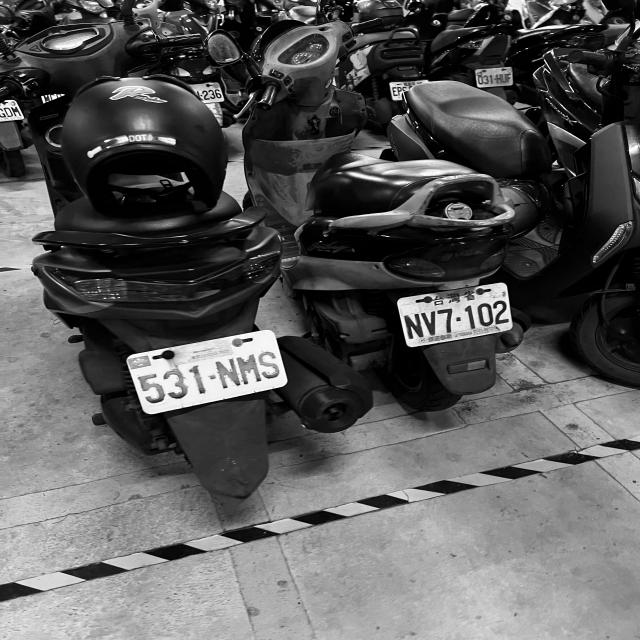-: (207, 373, 219, 382), (456, 316, 462, 322)
0: (474, 300, 494, 326)
1: (188, 363, 206, 396), (463, 304, 477, 329)
2: (493, 297, 511, 325), (202, 90, 211, 101)
3: (160, 366, 190, 403), (208, 89, 216, 100)
5: (136, 372, 169, 406)
6: (214, 88, 223, 99)
7: (436, 308, 456, 334)
E: (392, 86, 399, 97)
M: (234, 351, 263, 386)
N: (214, 355, 242, 391), (401, 311, 427, 340)
S: (255, 347, 282, 381)
V: (421, 308, 443, 337)
plate: (128, 334, 292, 408), (396, 291, 526, 338)
